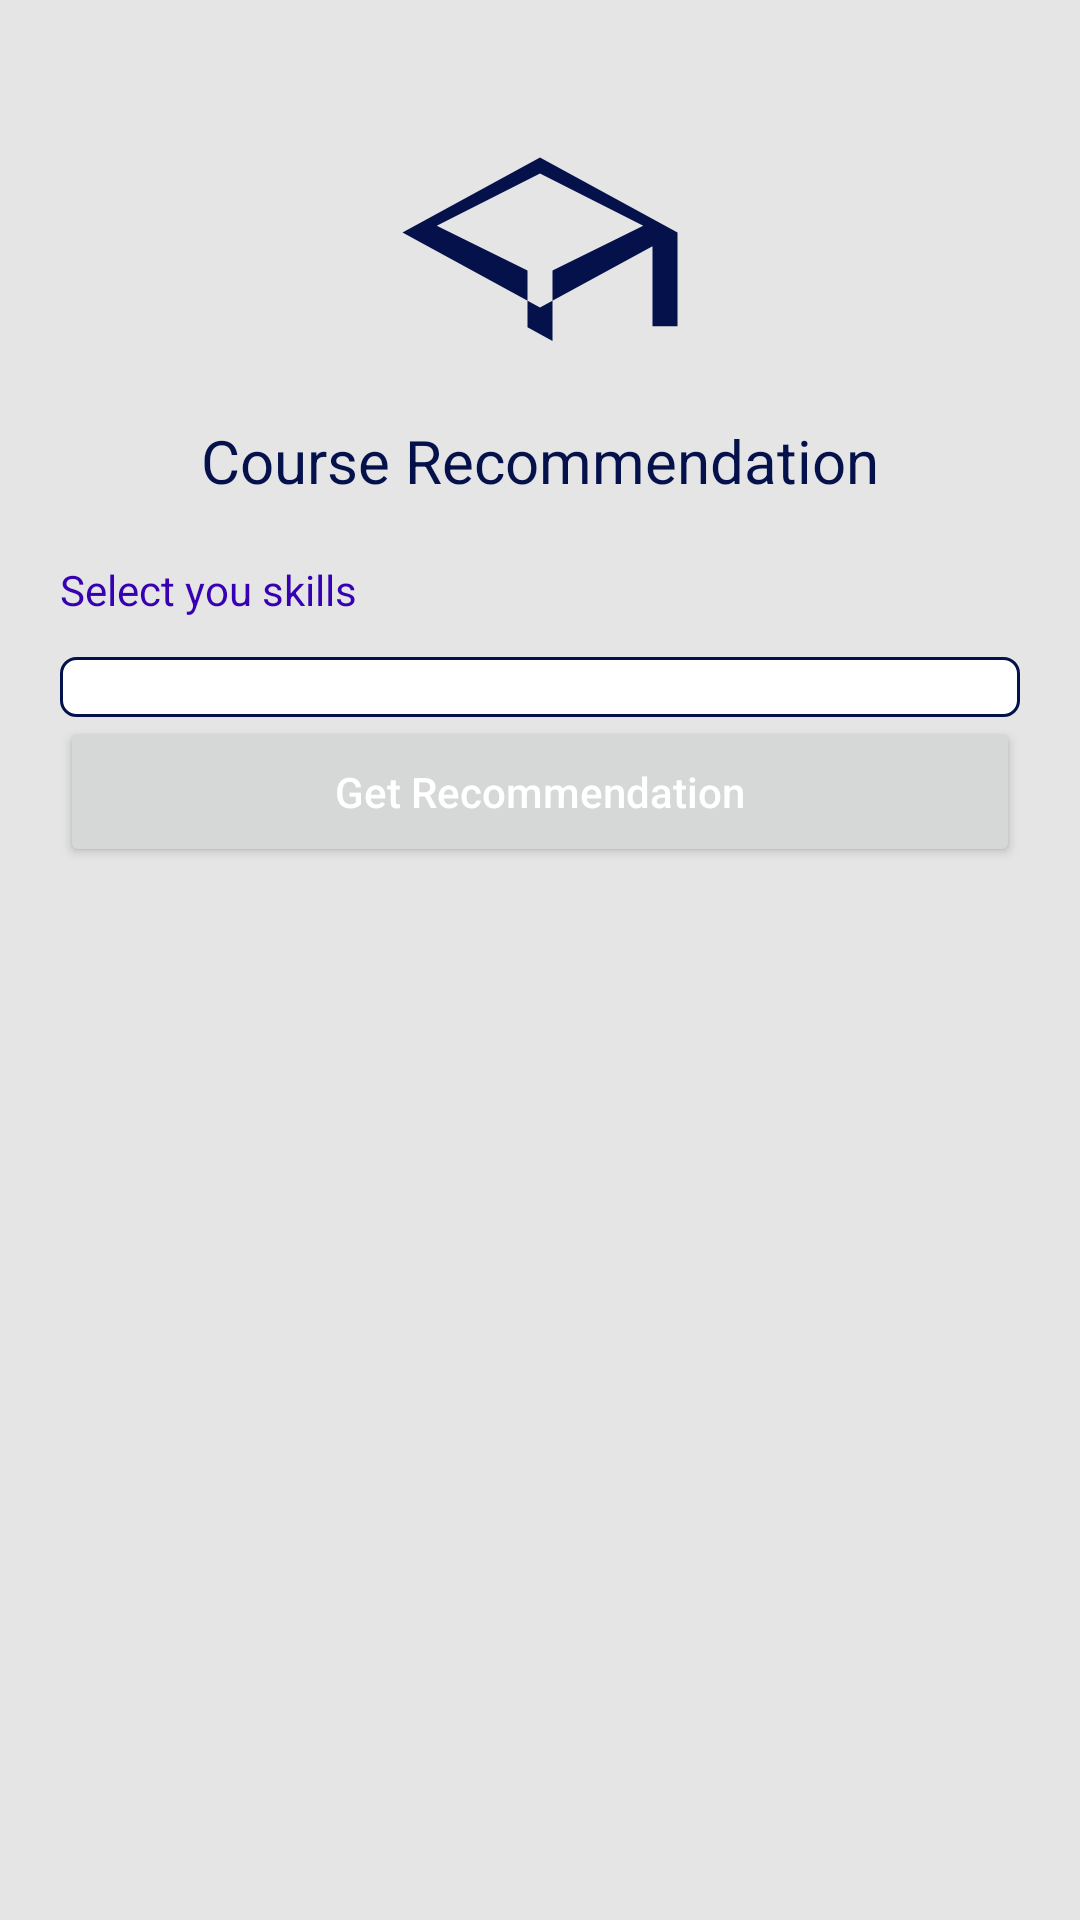

Locate icon controls on the screen. Image size 1080×1920, boxes as (x1, y1, x2, y2).
course guide: (402, 157, 678, 341)
